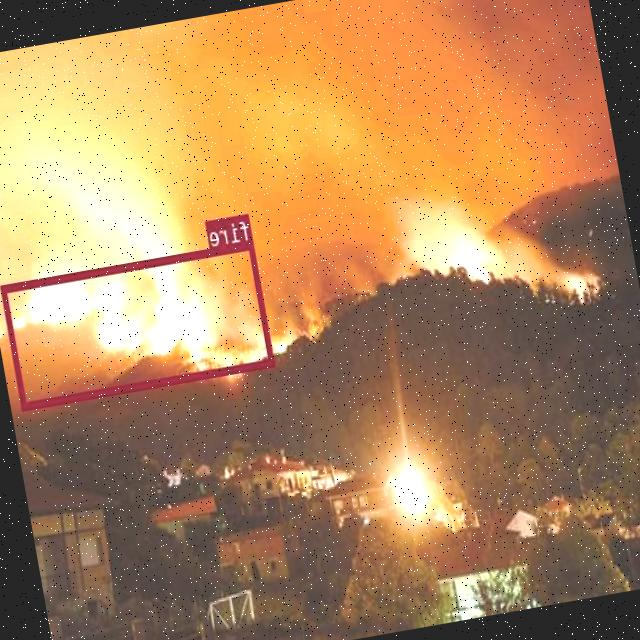fire: (2, 238, 276, 408)
